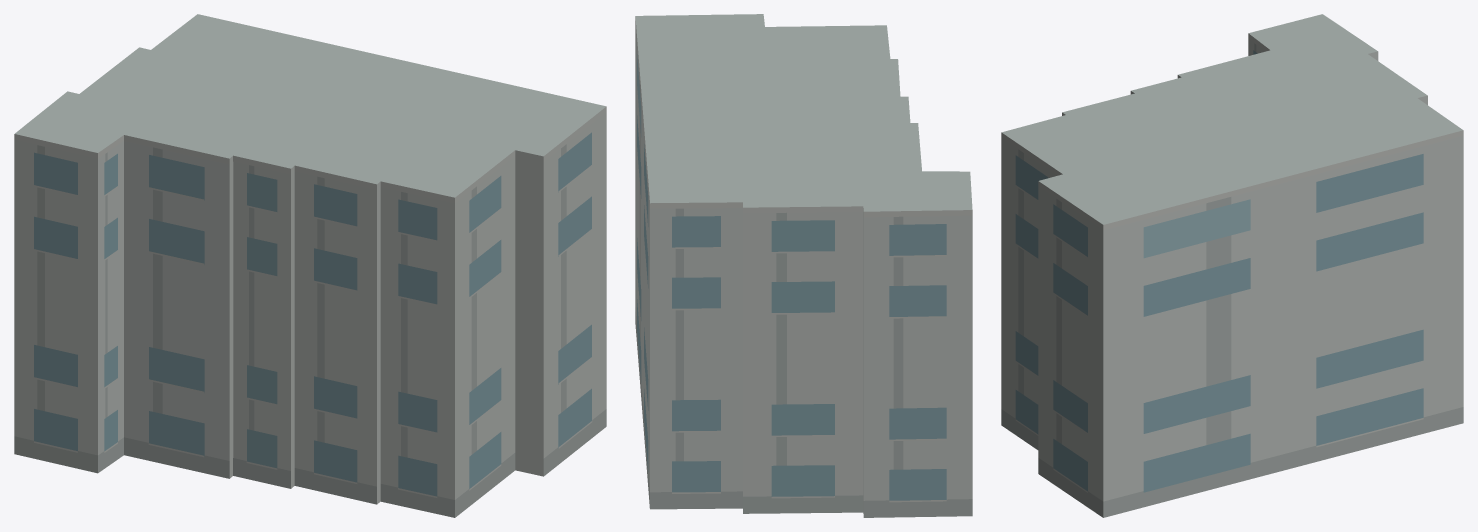
The model's file is survey-upis-32578290.glb.
3 renders of one model, left to right at view 1: azimuth 30°, elevation 25°; view 2: azimuth 150°, elevation 25°; view 3: azimuth 270°, elevation 25°, orthographic. The views are drawn at different scales.
Visible parts, largest first — view 1: survey-upis-32578290.tmp; view 2: survey-upis-32578290.tmp; view 3: survey-upis-32578290.tmp.
Boxes of the visible parts, x1=… form: survey-upis-32578290.tmp: x1=14, y1=14, x2=606, y2=517; survey-upis-32578290.tmp: x1=635, y1=14, x2=972, y2=517; survey-upis-32578290.tmp: x1=1001, y1=14, x2=1463, y2=517.
Size of the model in its own units: 20.39 by 13.2 by 18.88.
